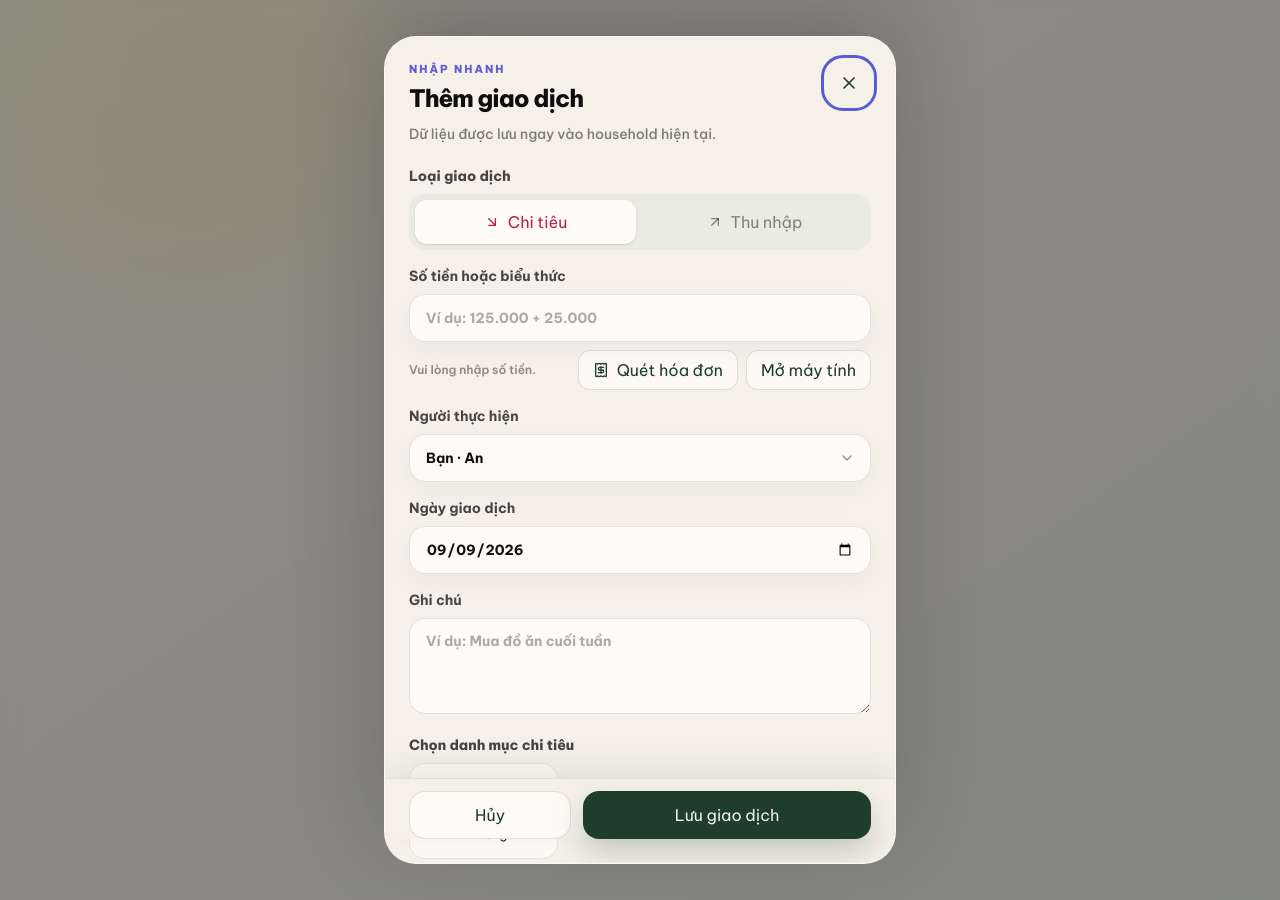
Test case: TransactionForm offline draft › định dạng số tiền theo nhóm ba chữ số khi nhập
This screenshot has width=1280, height=900.
Type "125000" into the field labelled "Số tiền hoặc biểu thức" at (640, 318), box [409,294,871,342]
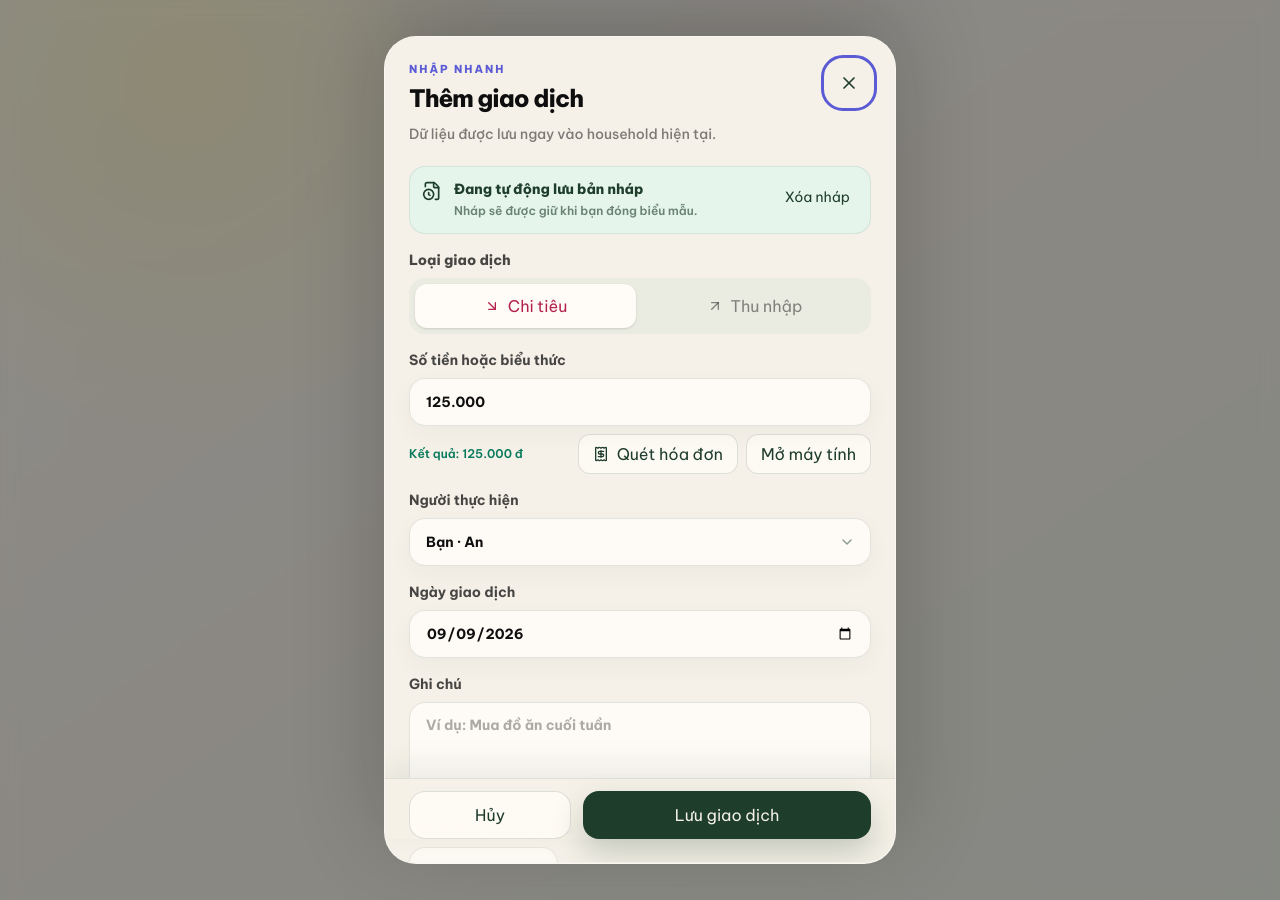
Result: the field labelled "Số tiền hoặc biểu thức" holds "125.000" at [409,378,871,426]
